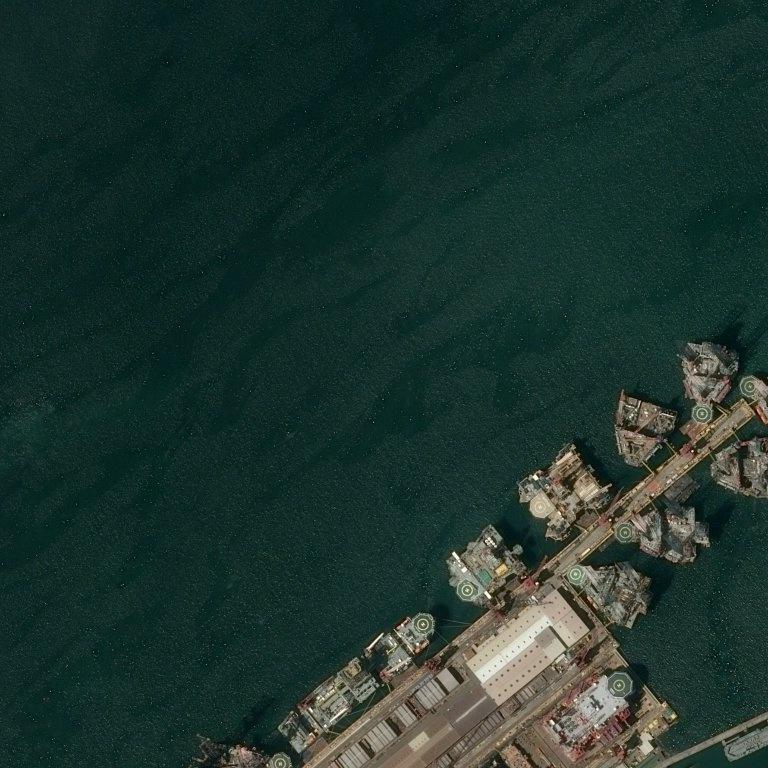ship: (723, 721, 767, 763), (725, 752, 727, 756), (763, 727, 764, 731), (765, 743, 765, 745)
